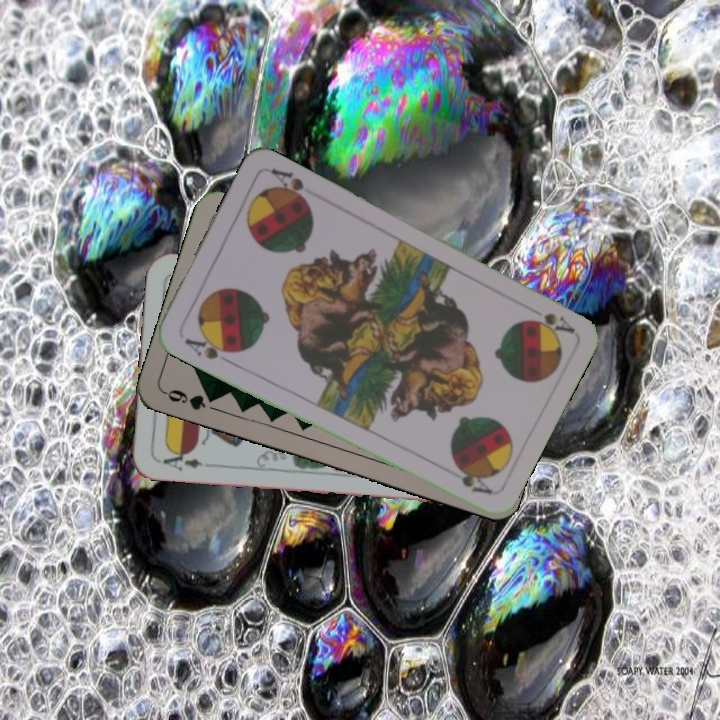EA: (159, 446, 205, 474)
G9: (160, 385, 221, 413)
SA: (180, 331, 237, 363), (524, 308, 577, 337)
